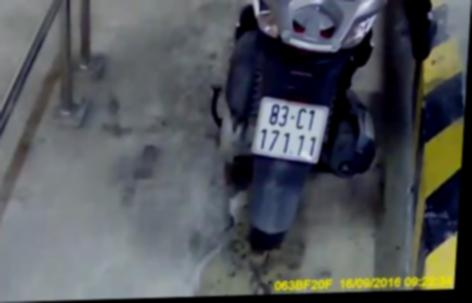License_Plate: (246, 90, 333, 173)
